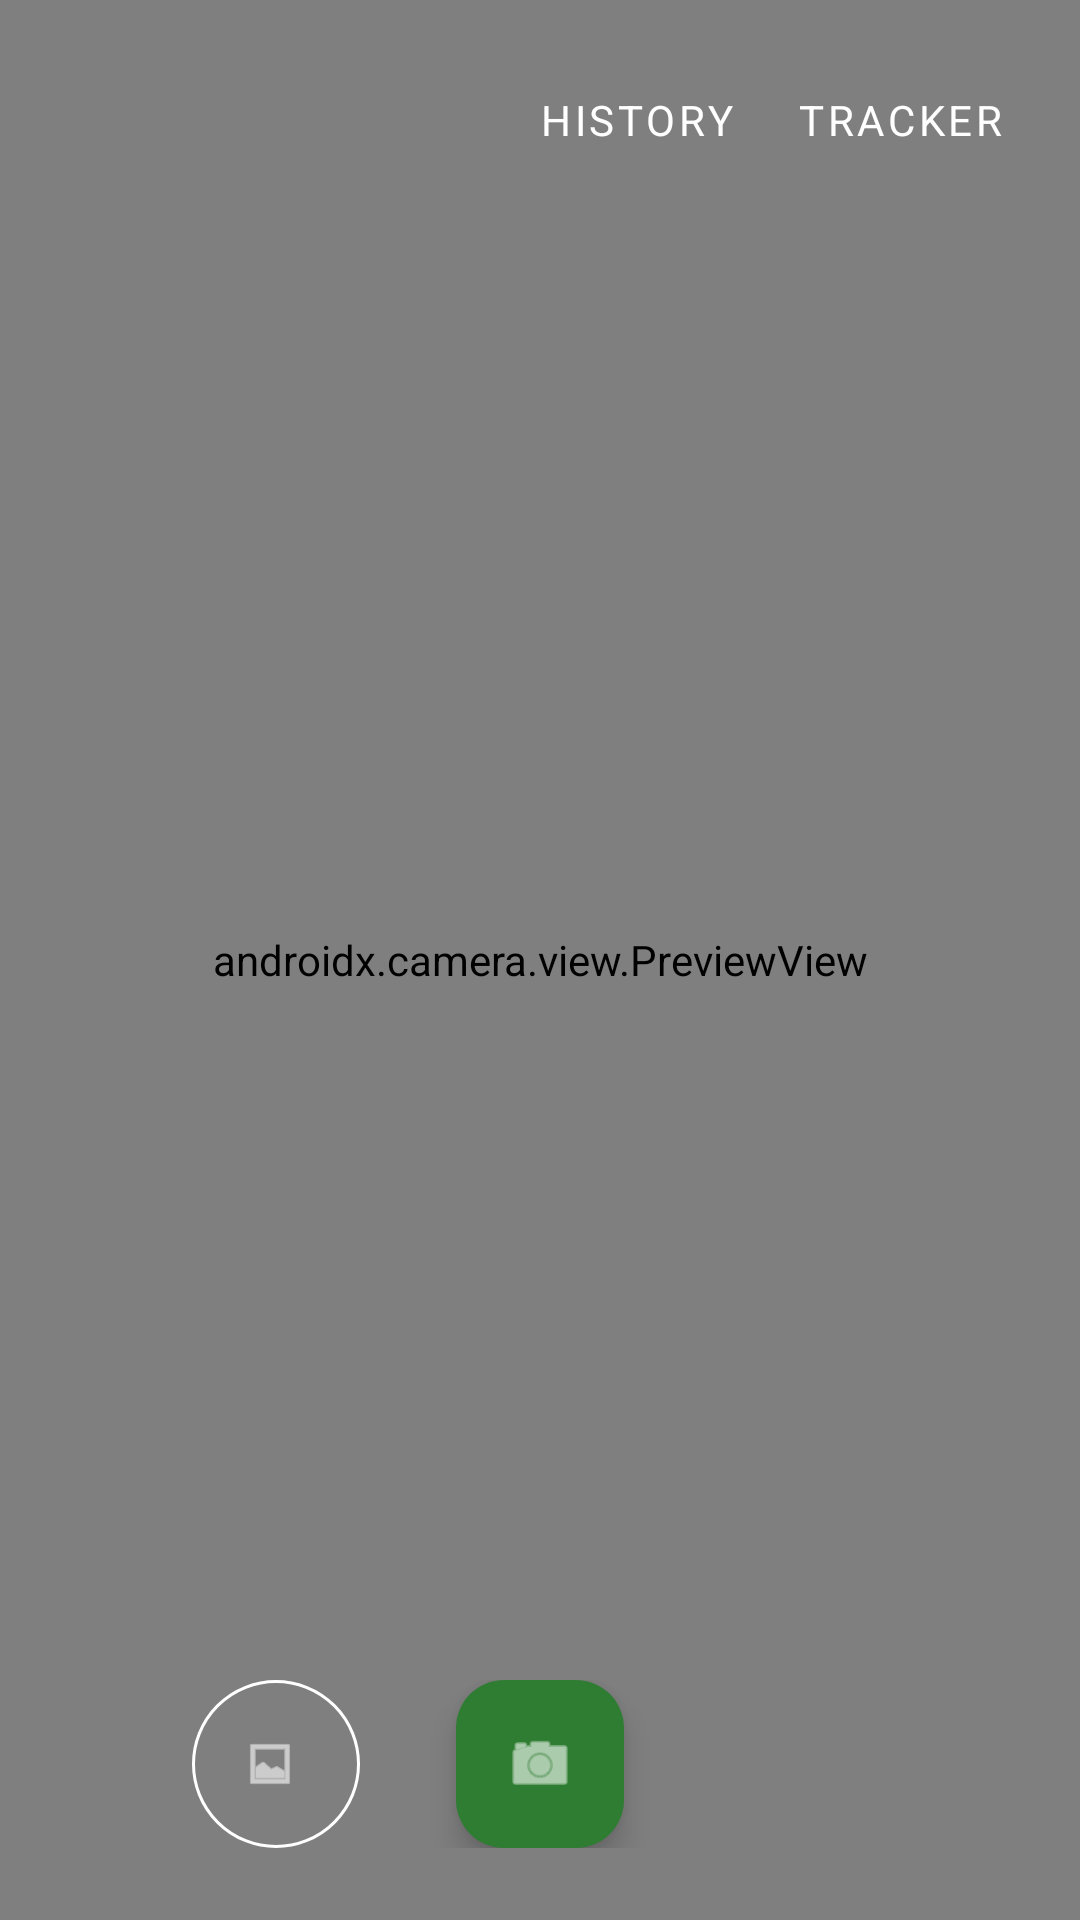

Screen size 1080*1920. Icon name, then its center in pixels as (x=x, y=y):
Capture photo: (x=540, y=1764)
Open gallery: (x=276, y=1764)
